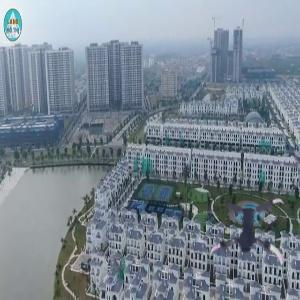drone: (206, 196, 292, 282)
